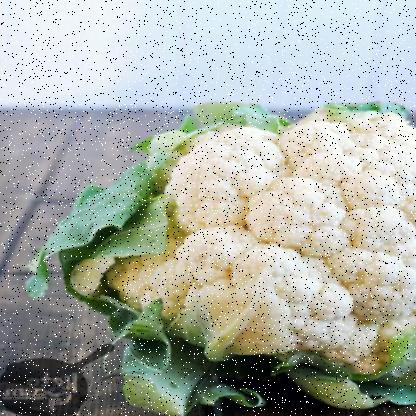cauliflower: (44, 110, 409, 414)
